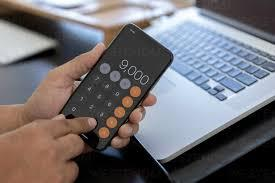Calculator: (61, 54, 152, 144)
